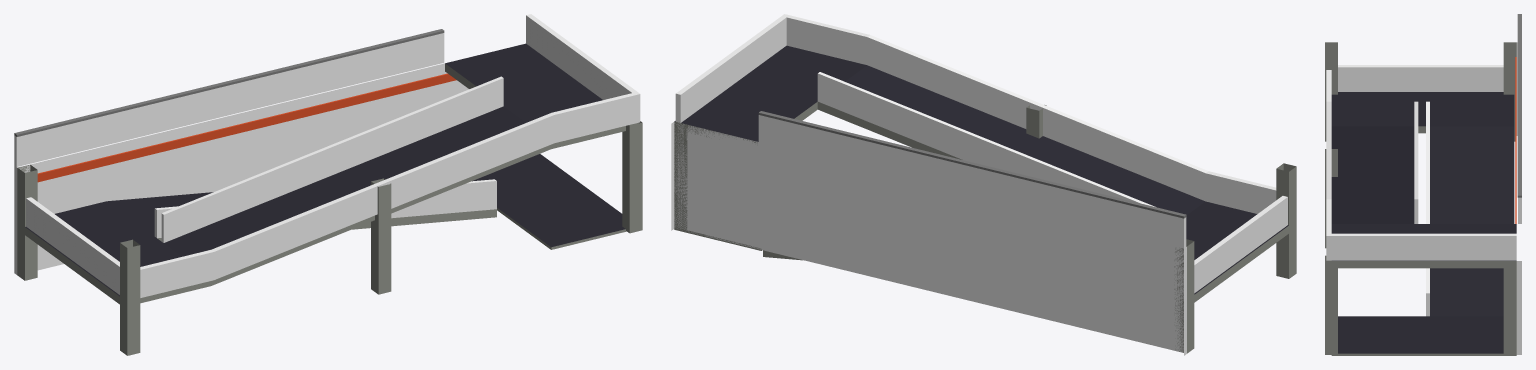
File: base-stair3.fbx
The picture shows the model from 3 angles, left to right: view 1: azimuth 30°, elevation 25°; view 2: azimuth 150°, elevation 25°; view 3: azimuth 270°, elevation 25°; orthographic projection. The views are drawn at different scales.
Visible parts, largest first — view 1: a2008/0/base-stair3; view 2: a2008/0/base-stair3; view 3: a2008/0/base-stair3.
Boxes of the visible parts, left/top/right/bottom form: a2008/0/base-stair3: left=14, top=14, right=642, bottom=355; a2008/0/base-stair3: left=671, top=14, right=1296, bottom=355; a2008/0/base-stair3: left=1325, top=14, right=1521, bottom=355.
Bounding box in the file's own units: 20 × 5.5 × 7.6.
